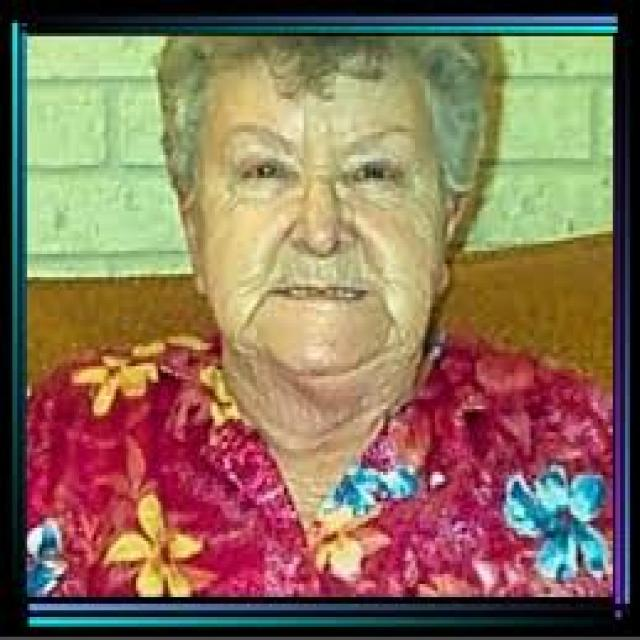normal_face: (138, 58, 476, 427)
